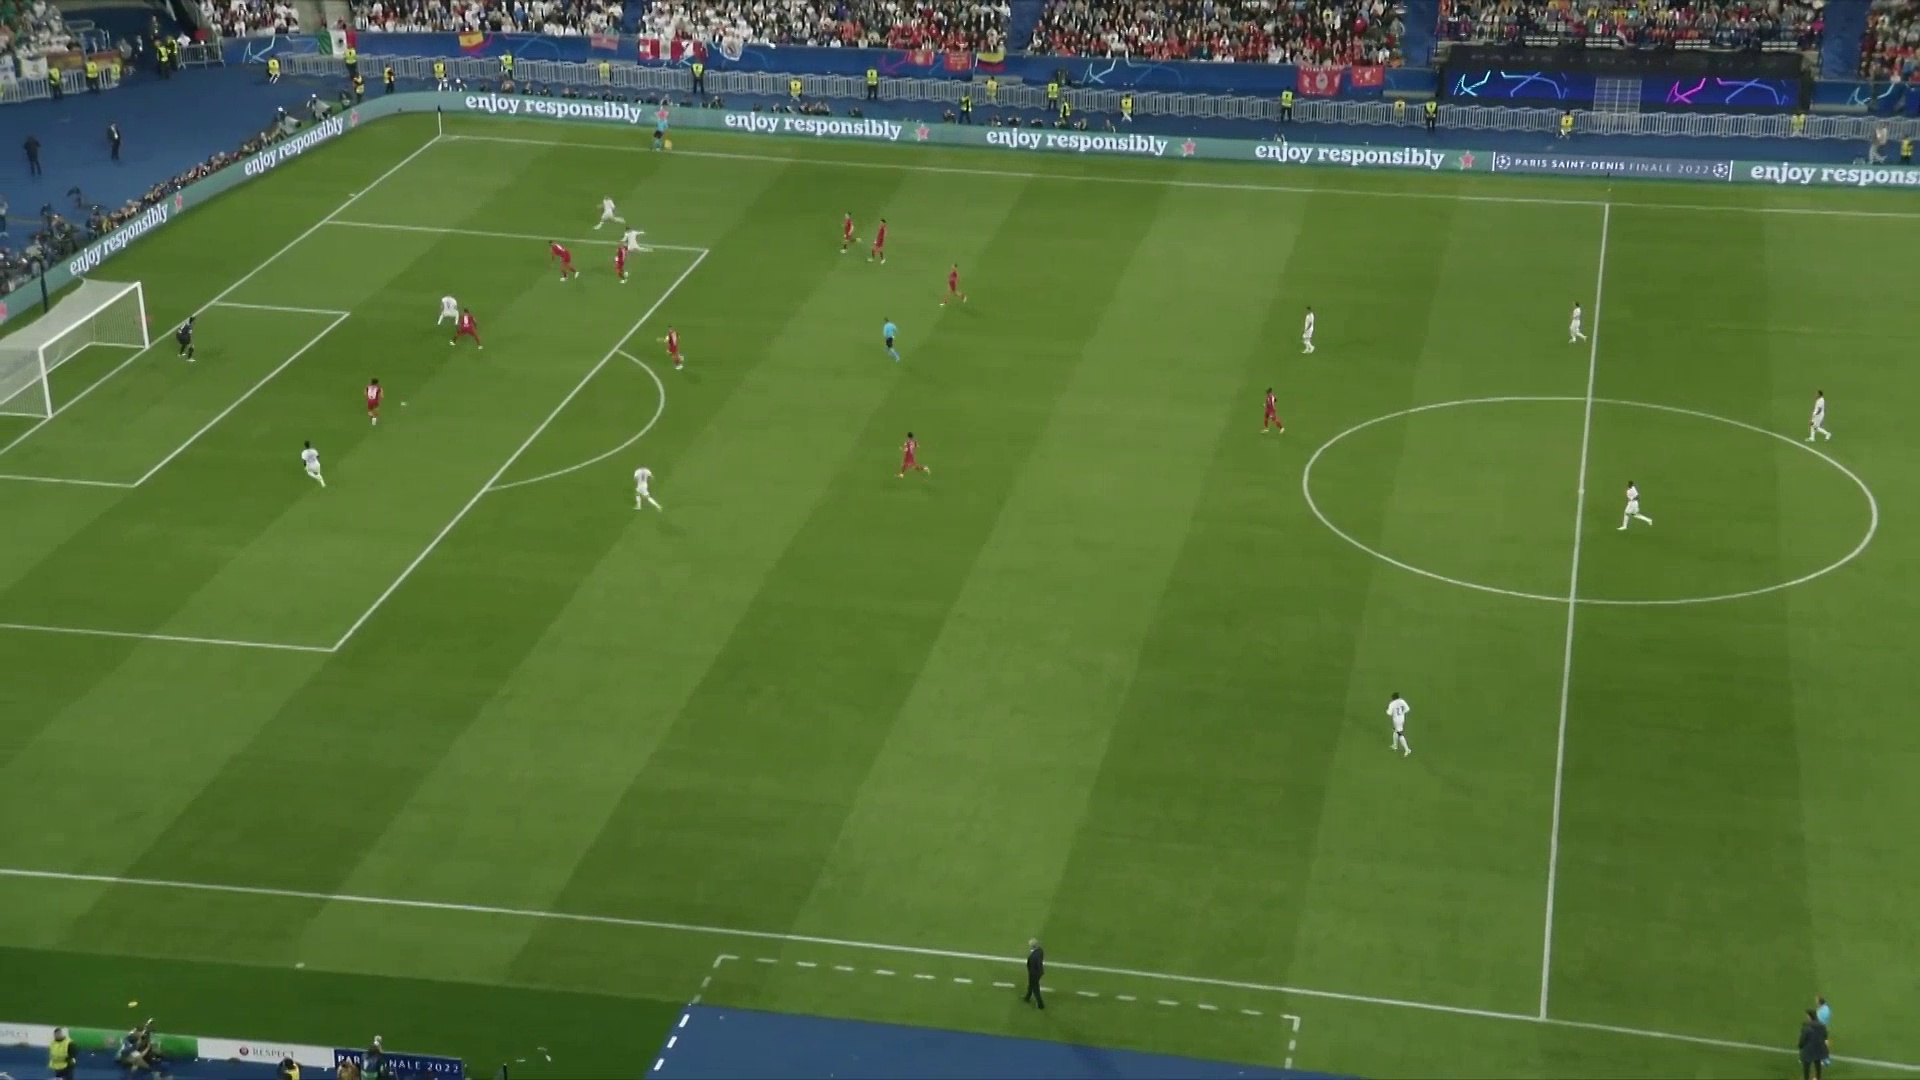player 1: (619, 226, 655, 252)
player 10: (1603, 466, 1664, 539)
player 11: (1383, 679, 1426, 759)
player 12: (166, 306, 213, 369)
player 13: (537, 230, 588, 282)
player 14: (351, 368, 388, 427)
player 15: (606, 252, 636, 287)
player 16: (453, 293, 487, 347)
player 17: (649, 304, 703, 383)
player 18: (871, 209, 896, 276)
player 19: (944, 257, 970, 321)
player 2: (591, 185, 621, 230)
player 20: (838, 203, 860, 254)
player 21: (1254, 390, 1306, 452)
player 22: (896, 422, 939, 491)
player 3: (293, 437, 343, 496)
player 4: (431, 291, 453, 325)
player 5: (619, 459, 677, 521)
player 7: (1295, 297, 1330, 356)
player 8: (1558, 289, 1603, 360)
player 9: (1804, 369, 1847, 457)
reffree: (877, 313, 912, 373)
